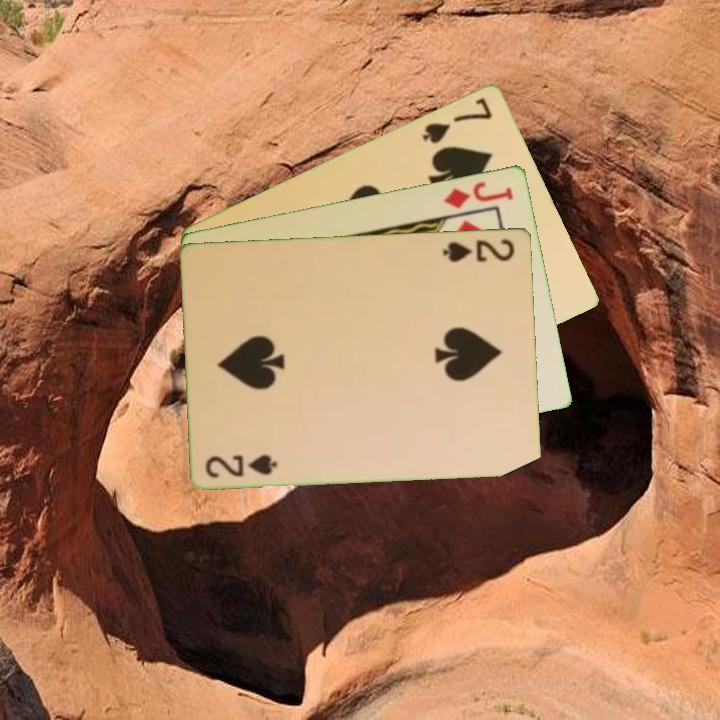2s: (203, 450, 280, 481), (439, 235, 518, 264)
7s: (419, 93, 496, 146)
Jd: (440, 177, 516, 211)
